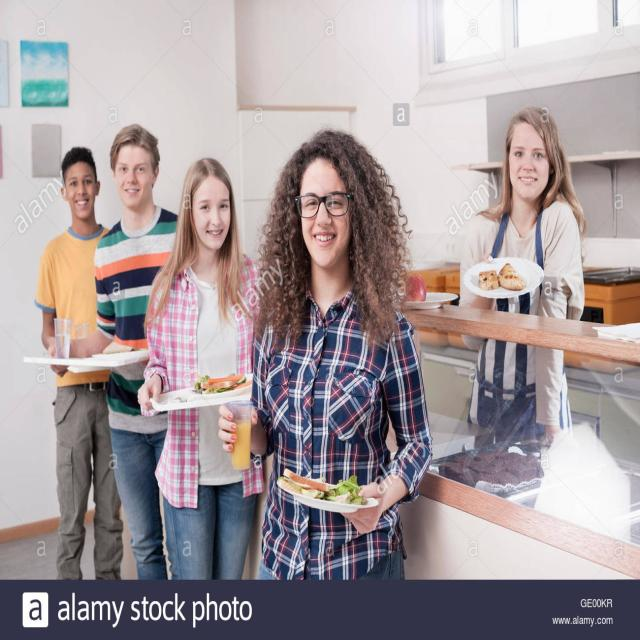body: (217, 126, 436, 581), (44, 122, 188, 582), (134, 156, 271, 582), (459, 109, 587, 434), (32, 143, 126, 583)
